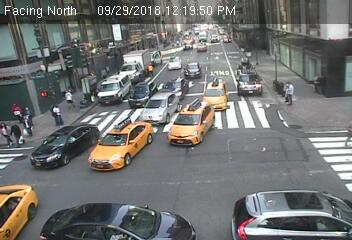car: (39, 202, 200, 240), (229, 189, 352, 238), (90, 119, 156, 168), (32, 124, 101, 168), (169, 102, 216, 148), (1, 184, 38, 240), (113, 47, 151, 82), (146, 90, 178, 125), (203, 75, 230, 112), (100, 75, 131, 100), (239, 71, 262, 97), (166, 75, 189, 97), (236, 58, 257, 78), (184, 62, 204, 77), (149, 50, 164, 65), (167, 55, 180, 70), (220, 33, 235, 43), (196, 31, 207, 42), (183, 40, 193, 48), (209, 34, 218, 42), (198, 44, 207, 51)
